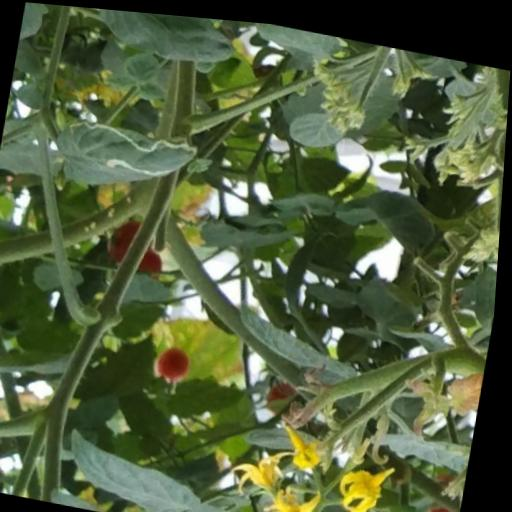Healthy: (65, 424, 246, 512), (93, 7, 239, 68), (289, 103, 348, 147)
Leaf_Miner: (47, 104, 203, 205)
